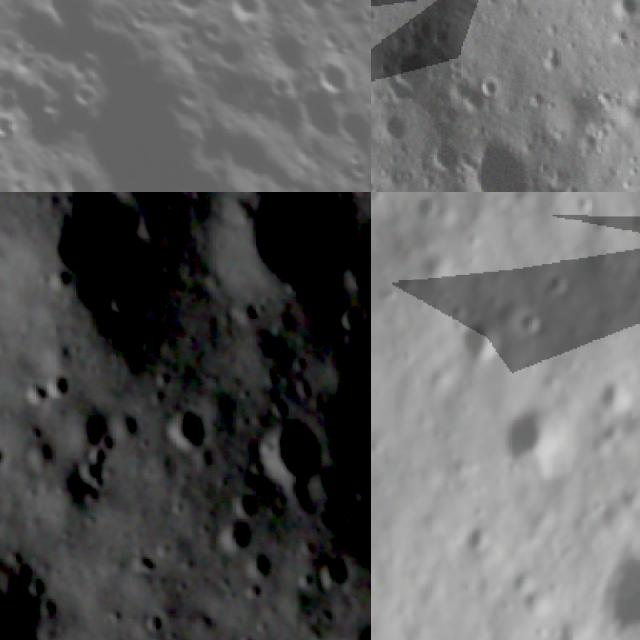crater: (26, 32, 238, 192), (23, 192, 157, 343), (215, 192, 366, 300), (242, 416, 339, 504), (0, 58, 84, 156), (500, 401, 573, 478), (250, 14, 323, 88), (0, 0, 72, 69), (150, 392, 220, 462), (466, 124, 537, 192), (288, 73, 352, 145), (591, 549, 640, 640), (377, 39, 435, 104), (27, 0, 110, 42), (306, 47, 362, 101), (458, 319, 510, 368), (327, 98, 371, 151), (106, 192, 197, 214), (591, 372, 637, 415), (426, 132, 466, 180), (5, 371, 54, 409), (39, 359, 80, 404), (416, 249, 458, 291), (371, 112, 413, 150), (217, 0, 271, 28), (316, 553, 354, 592), (218, 514, 254, 555), (246, 544, 280, 579), (155, 0, 215, 19), (282, 0, 337, 19), (412, 192, 443, 225), (517, 306, 545, 342), (509, 566, 538, 600), (543, 270, 574, 301), (608, 0, 640, 30), (468, 524, 497, 556)
